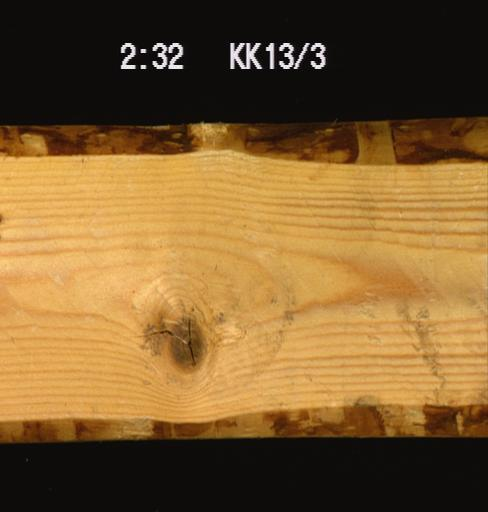sound_knot: (164, 308, 210, 370)
split: (127, 319, 188, 345)
wave: (0, 116, 487, 169), (0, 397, 487, 442)
